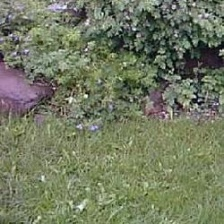neutral: (2, 4, 221, 222)
